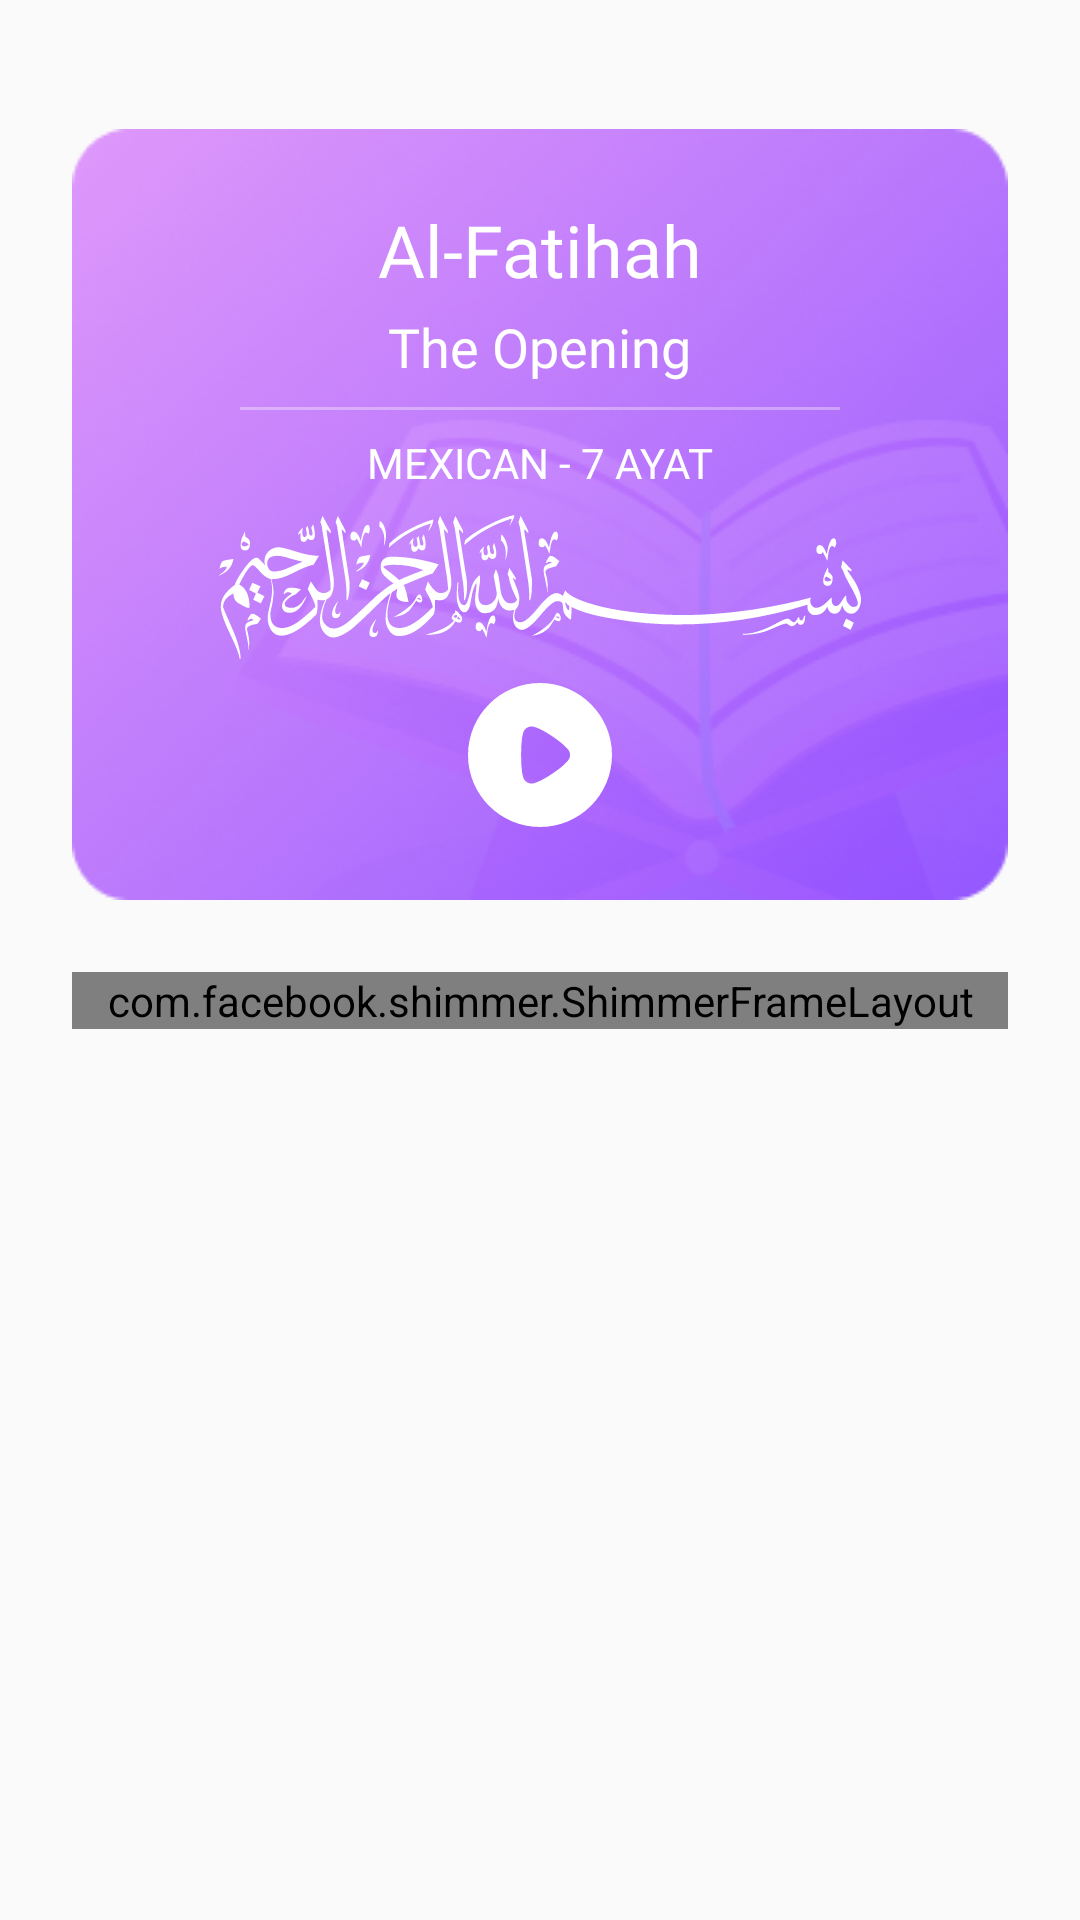

Locate icon controls on the screen. Image size 1080×1920, boxes as (x1, y1, x2, y2).
play: (468, 683, 612, 827)
